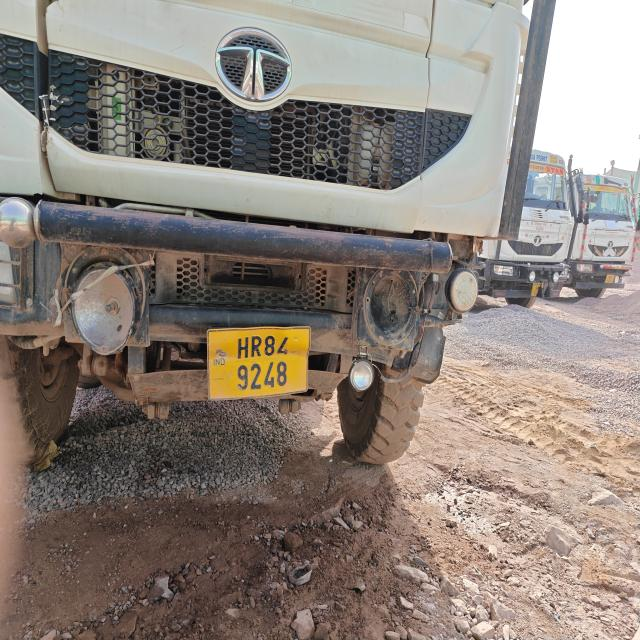license_plate: (208, 327, 310, 399), (531, 283, 539, 296), (605, 275, 614, 283)
